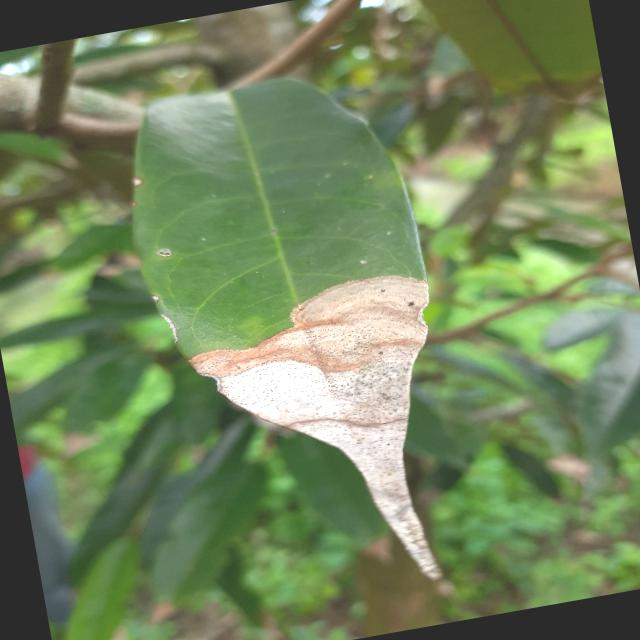Leaf Blight: (99, 44, 491, 639)
